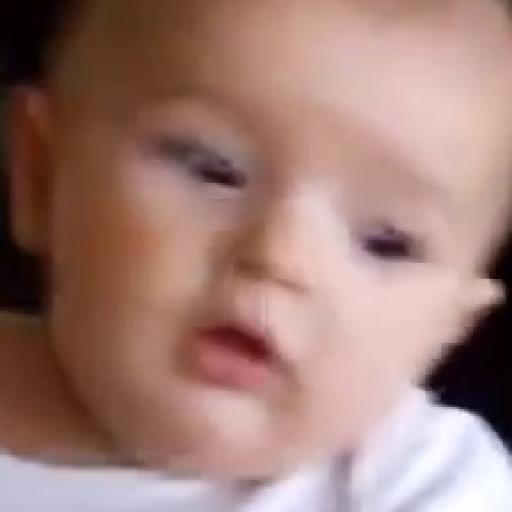Autism: (47, 2, 512, 457)
